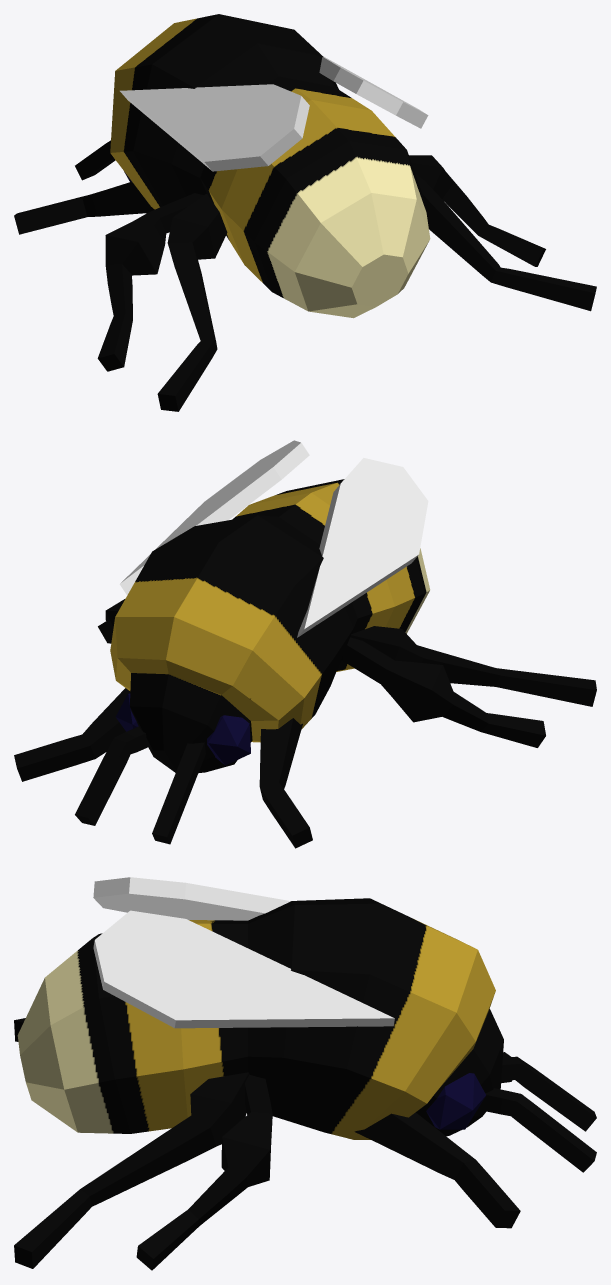
The model's file is bumblebee.fbx.
3 views of the same model, one above another, from view 1: azimuth 30°, elevation 25°; view 2: azimuth 150°, elevation 25°; view 3: azimuth 270°, elevation 25° (orthographic). The views are drawn at different scales.
Visible parts, largest first — view 1: bumblebee; view 2: bumblebee; view 3: bumblebee.
Boxes of the visible parts, x1,y1,x2,y2 form: bumblebee: (14, 14, 596, 411); bumblebee: (14, 440, 596, 848); bumblebee: (14, 877, 596, 1270).
Size of the model in its own units: 273 by 279 by 138.
Materials: 2 (1 with a texture image).
